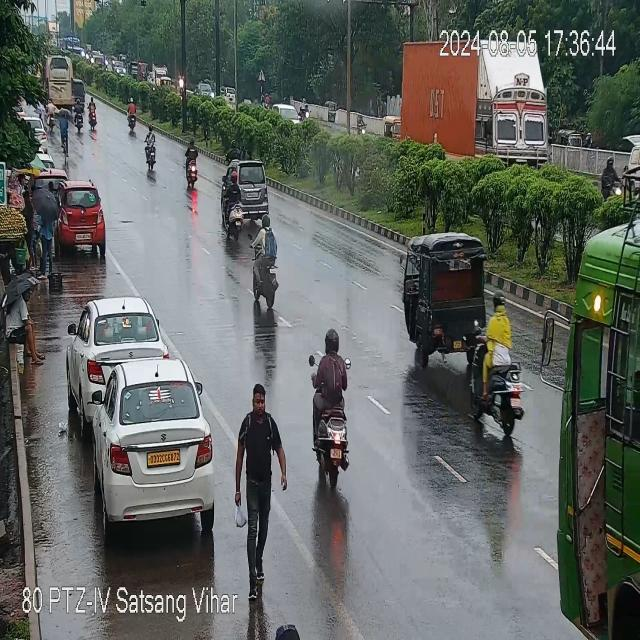2-wheelers: (309, 332, 355, 484), (471, 332, 524, 440), (252, 222, 286, 308), (595, 154, 621, 200), (180, 145, 202, 187), (54, 108, 74, 144), (142, 130, 160, 168), (350, 105, 367, 139), (126, 98, 142, 133), (88, 96, 101, 128)
auto: (398, 242, 489, 361)
bus: (556, 202, 640, 620), (44, 54, 86, 113)
car: (76, 360, 216, 528), (71, 298, 164, 398), (58, 187, 106, 248), (222, 166, 270, 223), (275, 99, 301, 127)
pedestrian: (236, 379, 284, 534), (27, 180, 58, 272), (5, 288, 43, 362)
truck: (384, 46, 548, 176)
